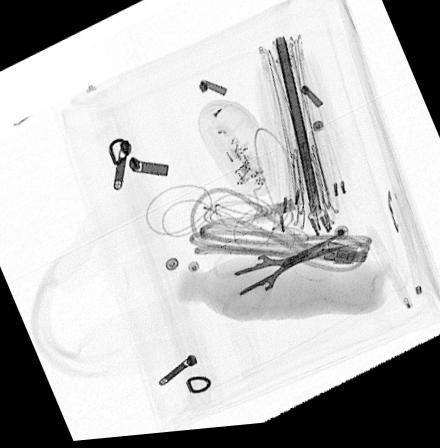Scissors: (212, 235, 352, 327)
